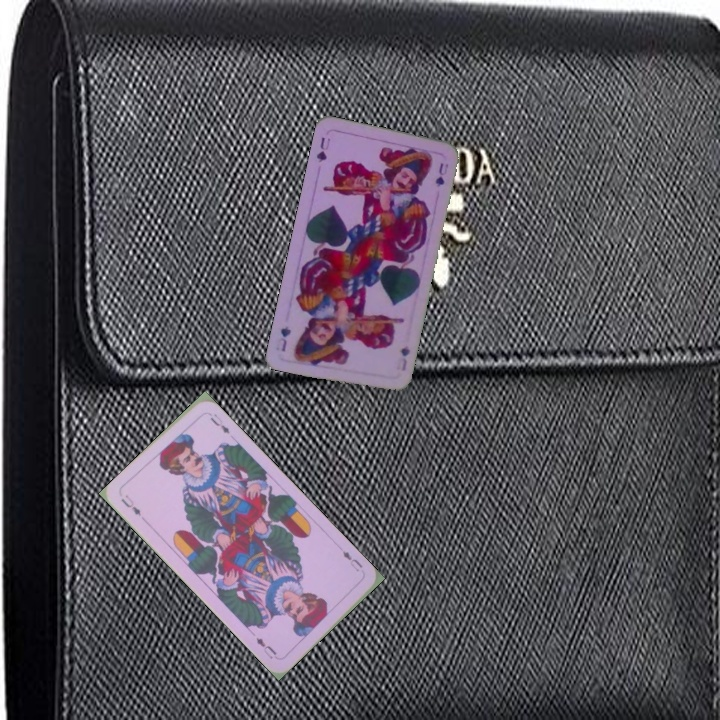EU: (117, 491, 144, 519), (338, 547, 365, 574)
GU: (312, 133, 333, 165), (396, 341, 413, 373)
